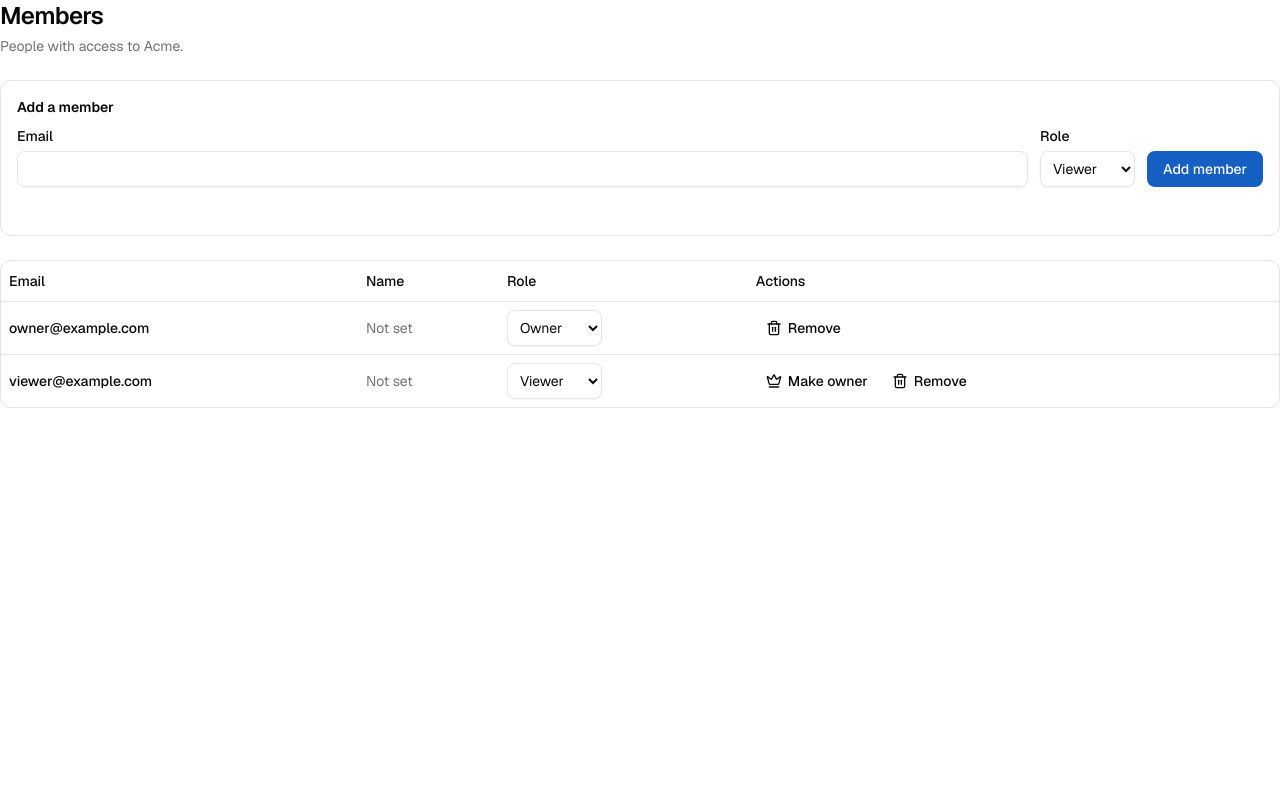
Test: MembersView permission gating › explains LAST_OWNER inline
Click the button with aria-label "Remove owner@example.com" at (803, 328), box [756,312,851,344]
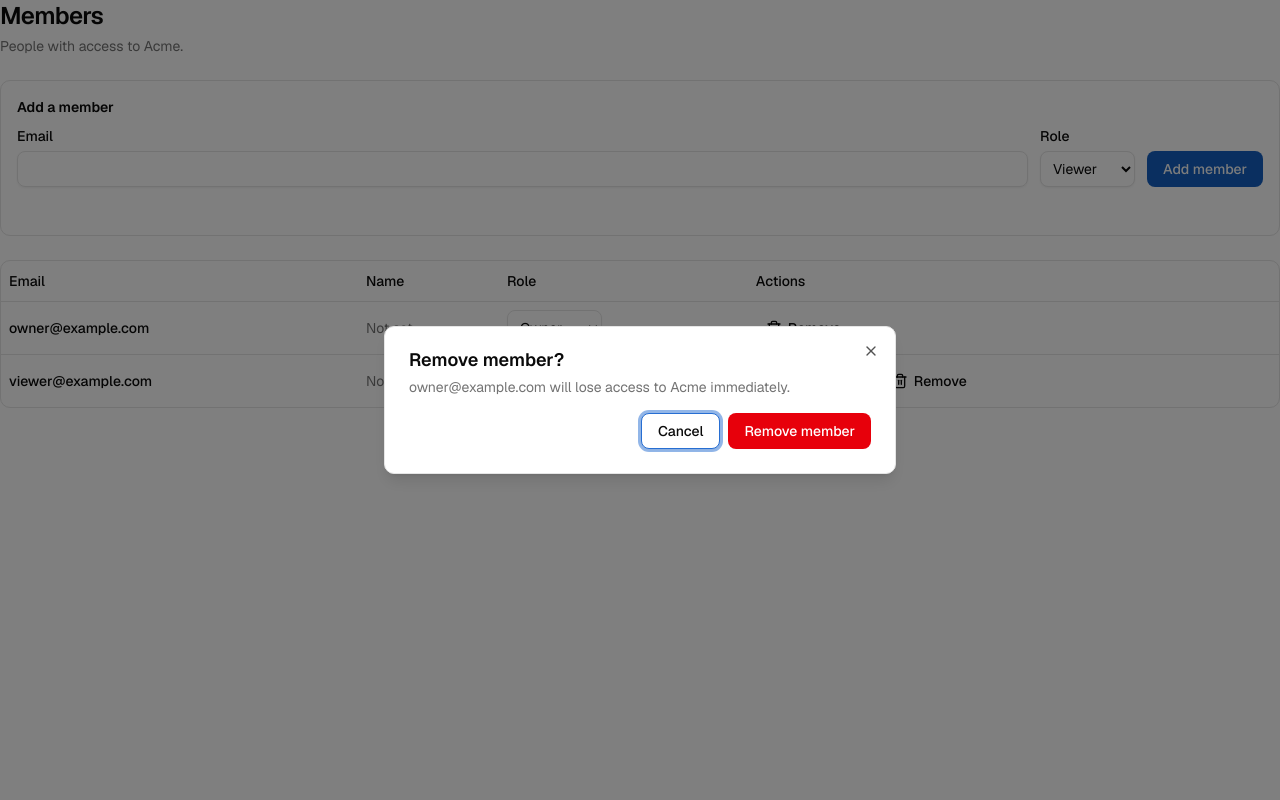
Click the button "Remove member" at (800, 431), box [728,413,871,449]
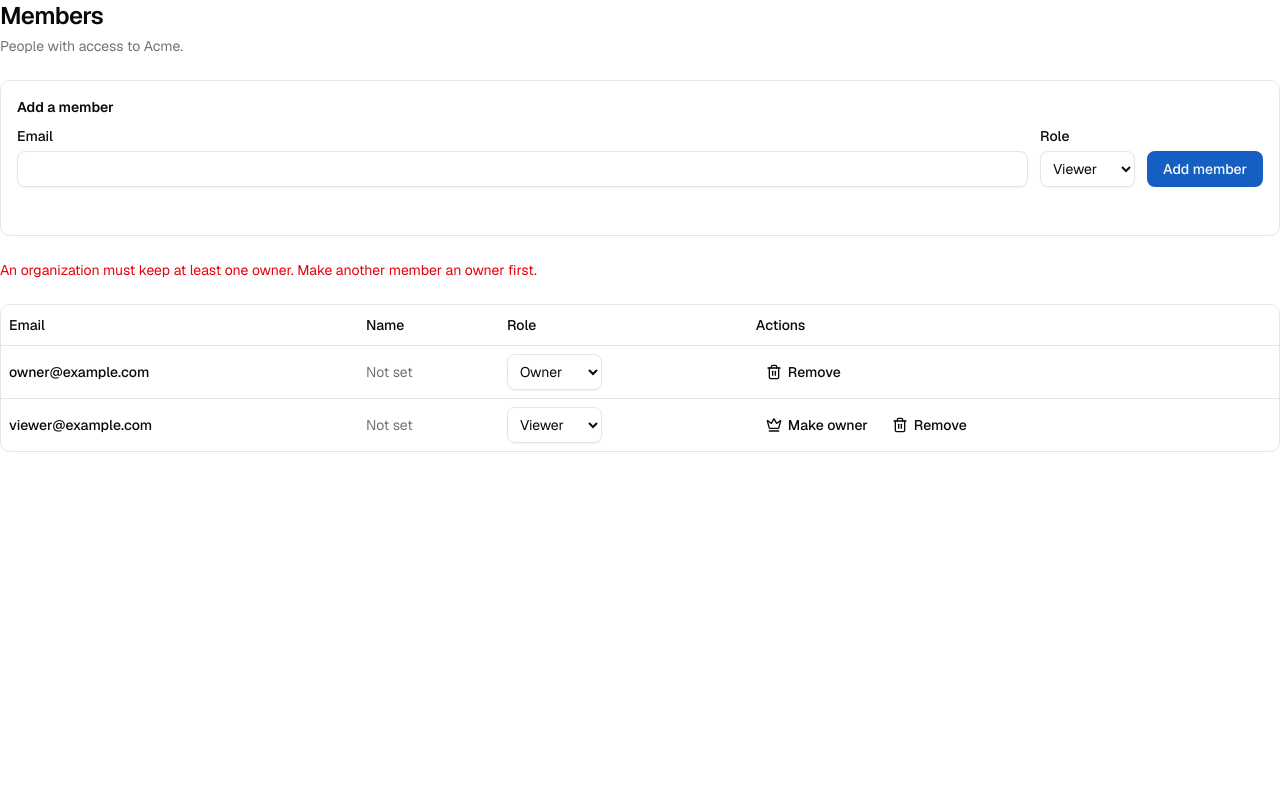
Expected: the text "must keep at least one owner" is shown, [0,261,537,279]
